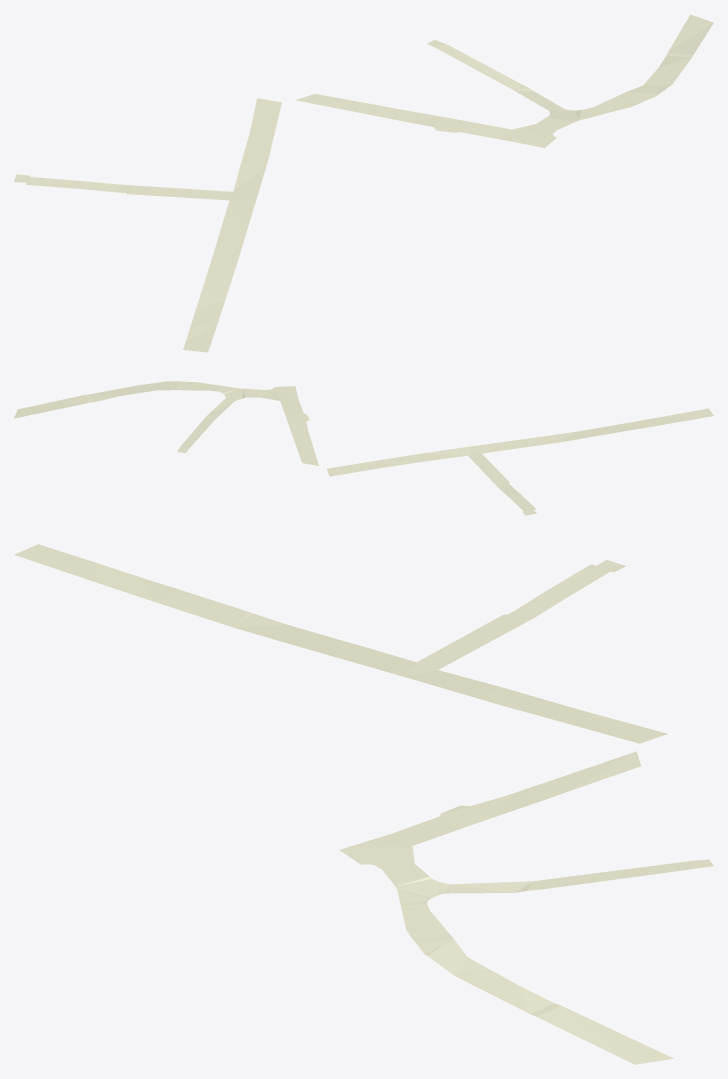
Rendered from data83.glb.
3 renders of one model, top to bottom at view 1: azimuth 30°, elevation 25°; view 2: azimuth 150°, elevation 25°; view 3: azimuth 270°, elevation 25°, orthographic. The views are drawn at different scales.
Size of the model in its own units: 242 by 7.45 by 143.
